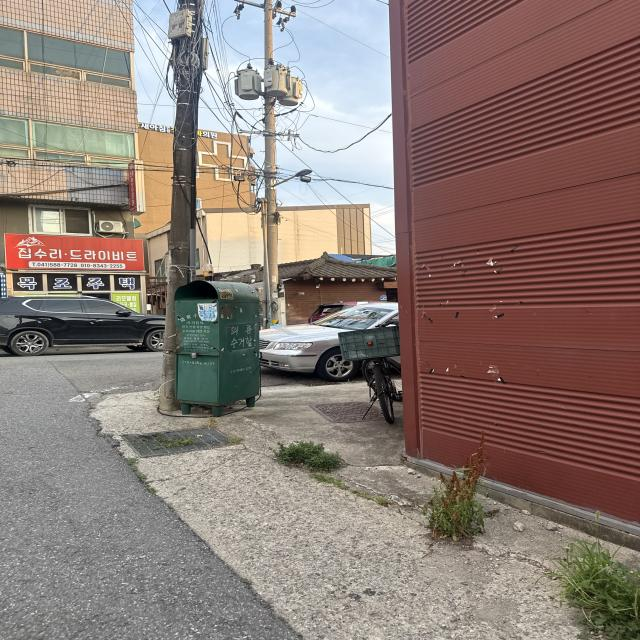car: (242, 290, 424, 382), (0, 287, 181, 361)
motorcycle: (339, 323, 420, 432)
